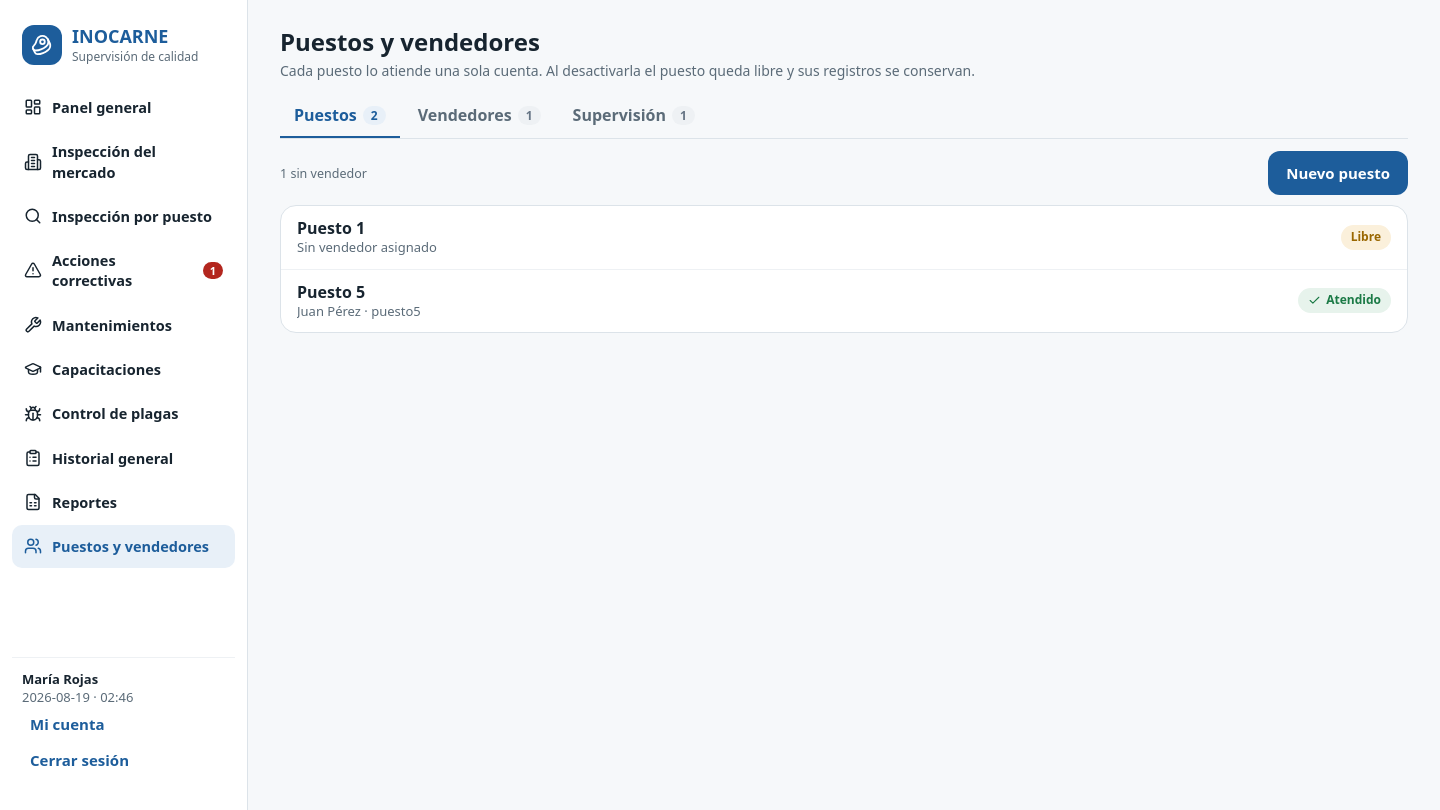
puestos y vendedores › el administrador sí tiene la pestaña de supervisión
This screenshot has width=1440, height=810.
Click the tab "Supervisión 1" at (634, 117), box [559, 94, 709, 139]
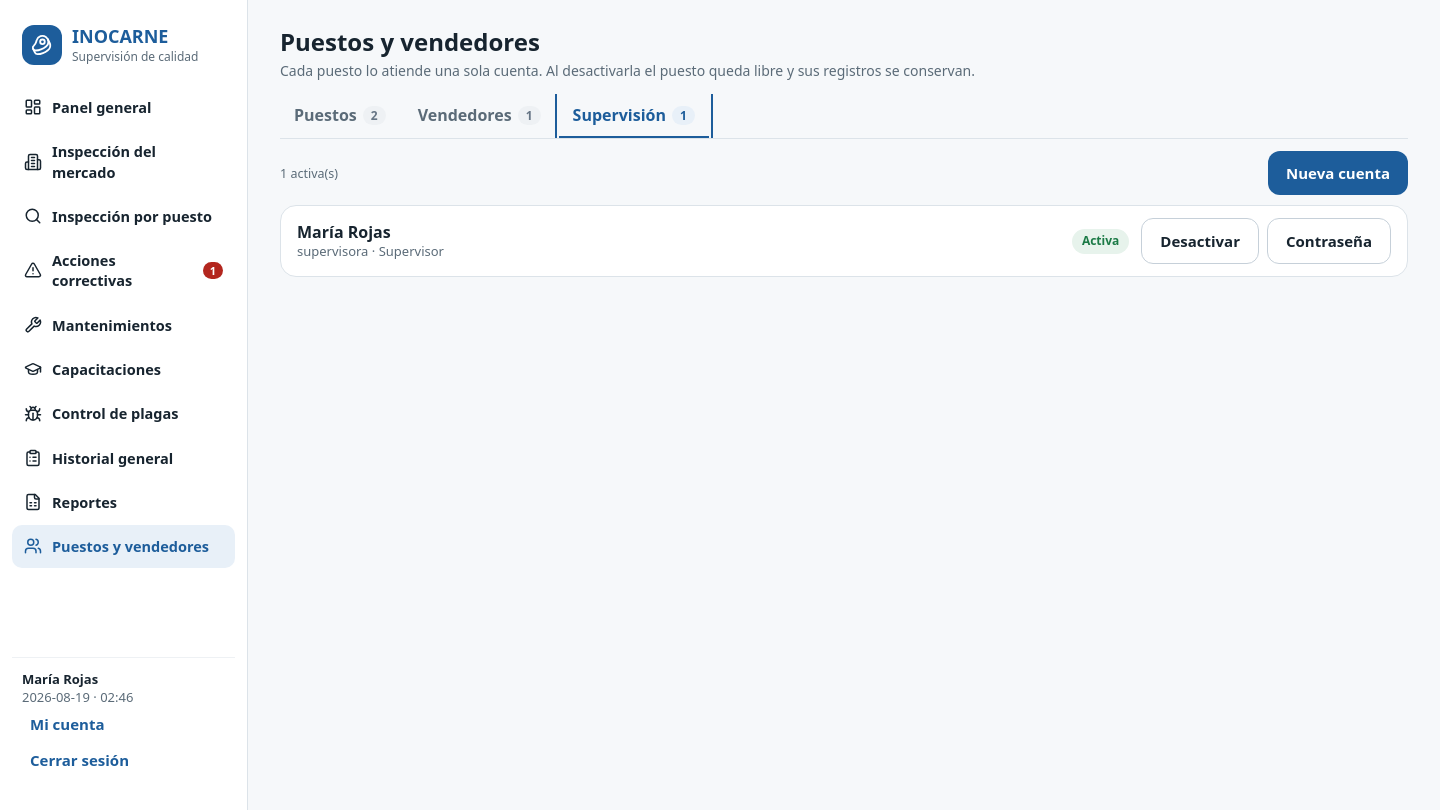
Expected: the text "María Rojas" below "activa(s)" is shown, [297, 221, 391, 243]
Expected: the text "Juan Pérez" is gone
